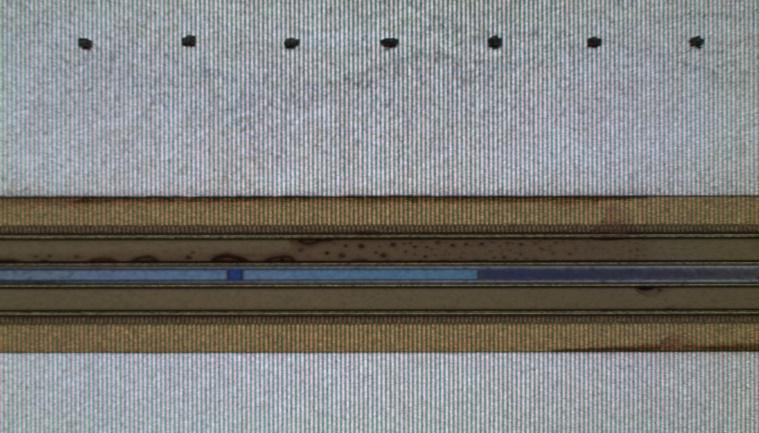SEZ BURNT: (1, 199, 759, 361)
